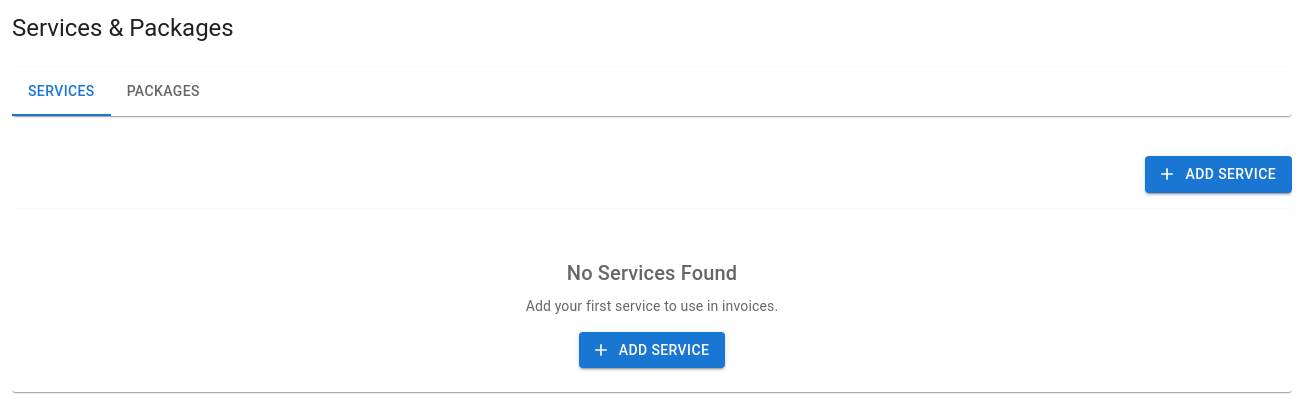
Test: Service Management Integration Tests › Package List Management › should calculate and display per-session cost
Step 1. Click the tab "Packages" → [163, 92], box 111,68 -> 216,116
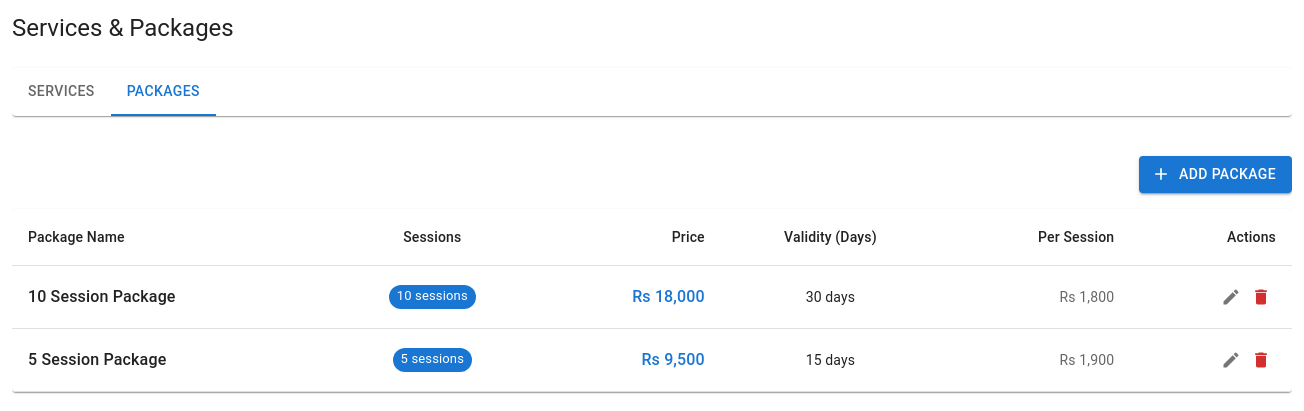
Now the text "10 Session Package" is shown, box 28,286 -> 176,306
Now the text "Rs 1,800" is shown, box 1060,288 -> 1114,304
Now the text "Rs 1,900" is shown, box 1060,352 -> 1114,368
